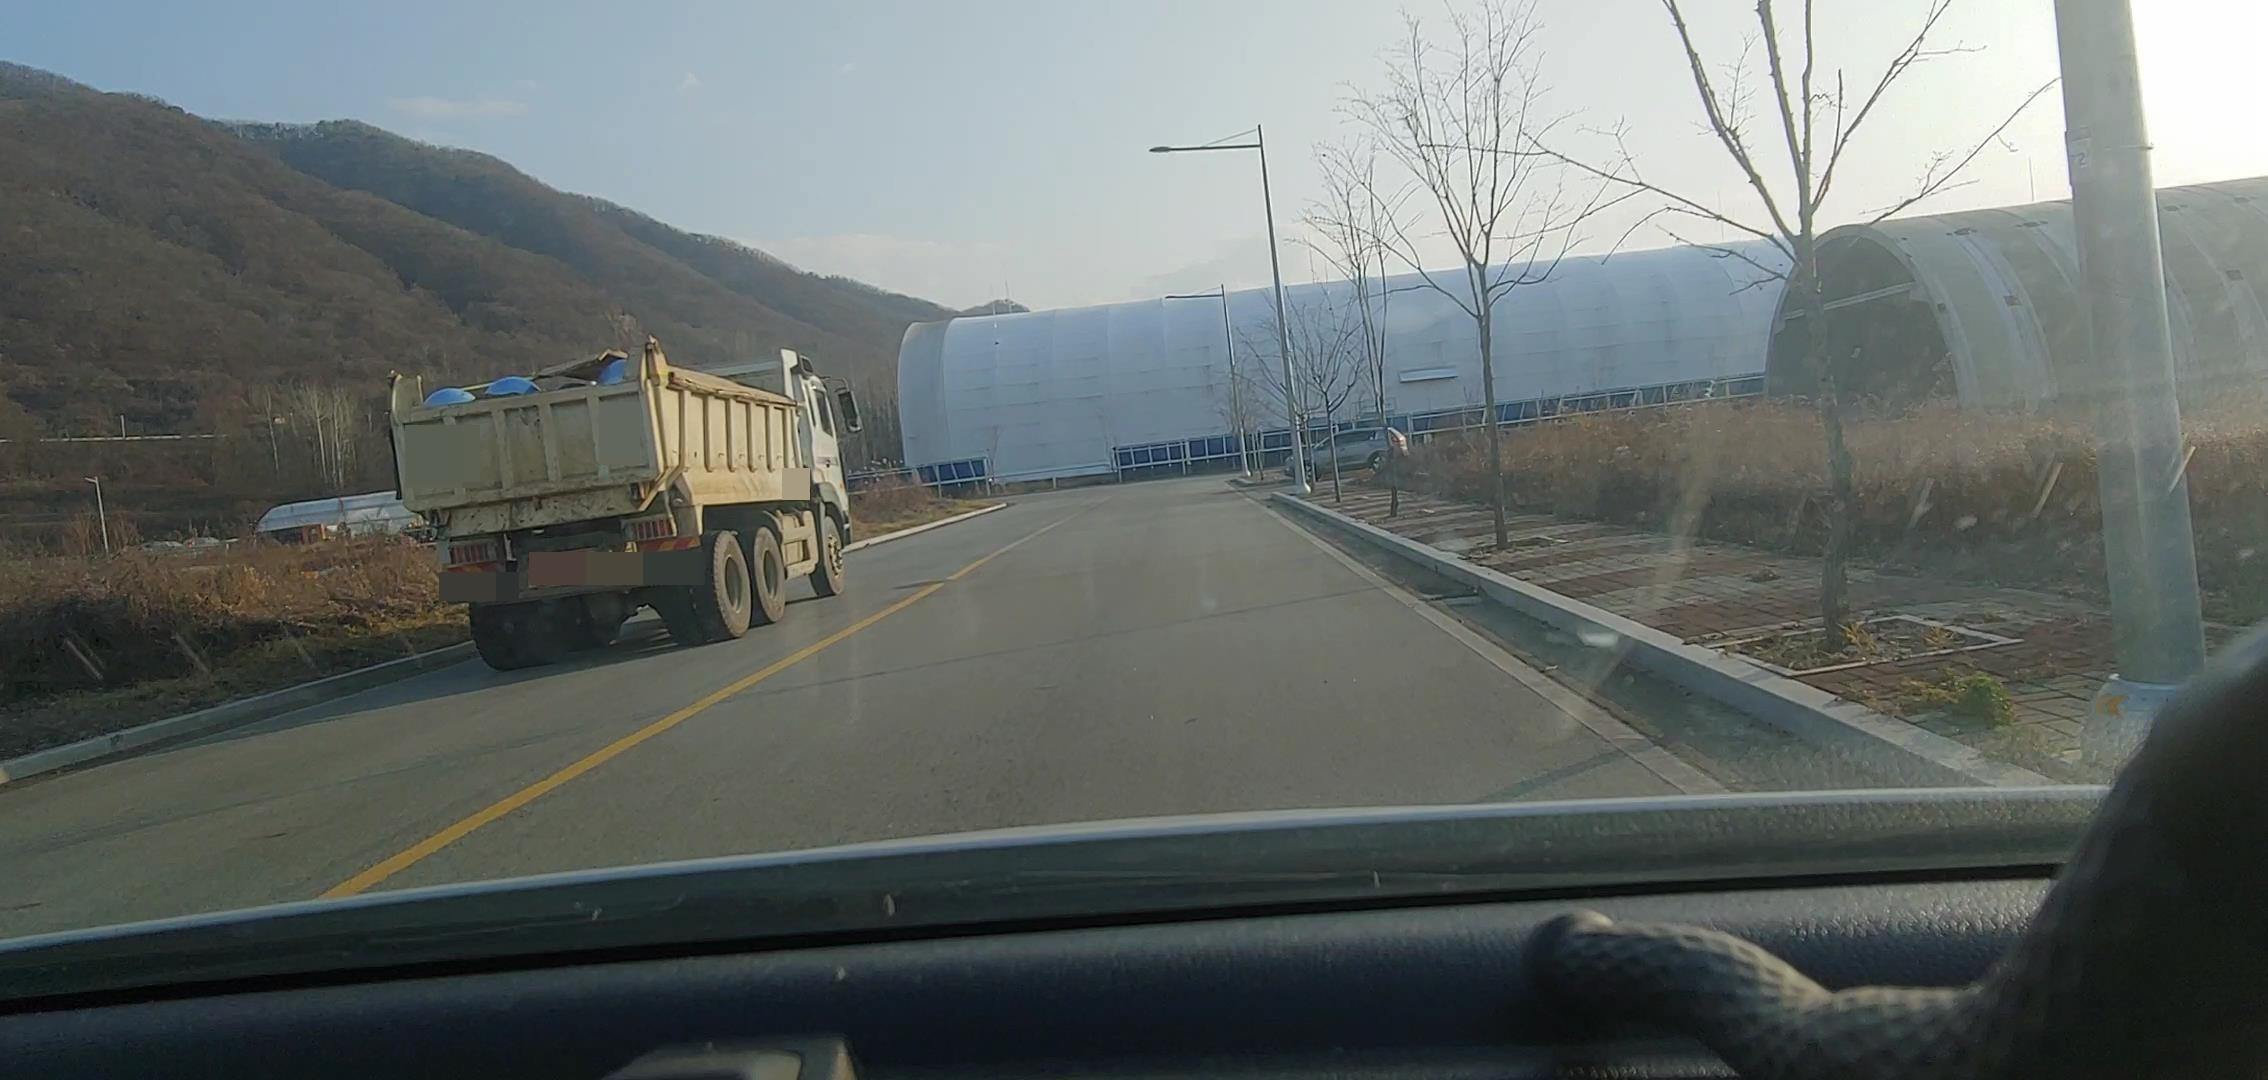불법차량: (388, 333, 865, 672)
